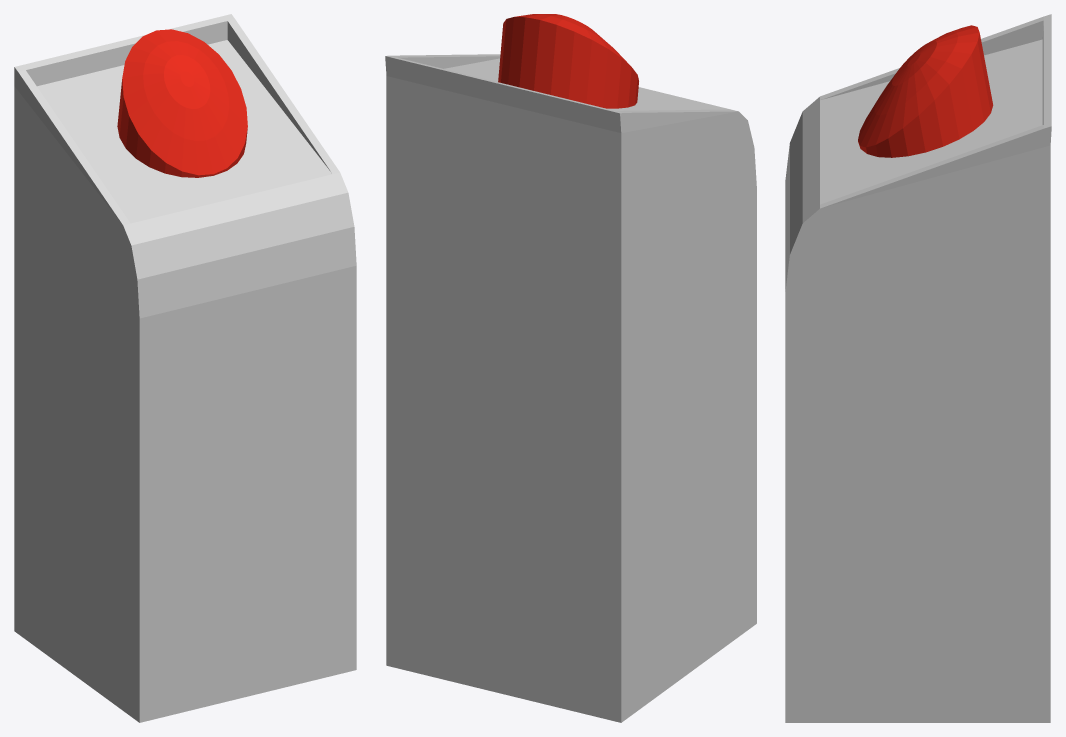
File: Button.glb
3 renders of one model, left to right at view 1: azimuth 30°, elevation 25°; view 2: azimuth 150°, elevation 25°; view 3: azimuth 270°, elevation 25°, orthographic. The views are drawn at different scales.
Visible parts, largest first — view 1: Cube, Cylinder; view 2: Cube, Cylinder; view 3: Cube, Cylinder.
Boxes of the visible parts, x1,y1,x2,y2 form: Cube: (14, 14, 356, 722); Cylinder: (117, 29, 247, 177); Cube: (385, 54, 756, 722); Cylinder: (498, 14, 638, 108); Cube: (785, 14, 1051, 722); Cylinder: (858, 25, 993, 157).
Size of the model in its own units: 0.5015 by 1.32 by 0.5022.
